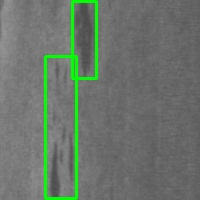inclusion: (45, 56, 76, 198), (72, 1, 96, 78)
